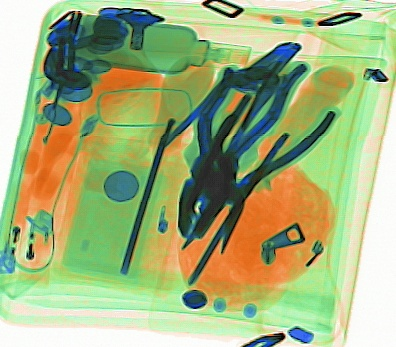lighter: (18, 208, 55, 291), (1, 187, 27, 275)
